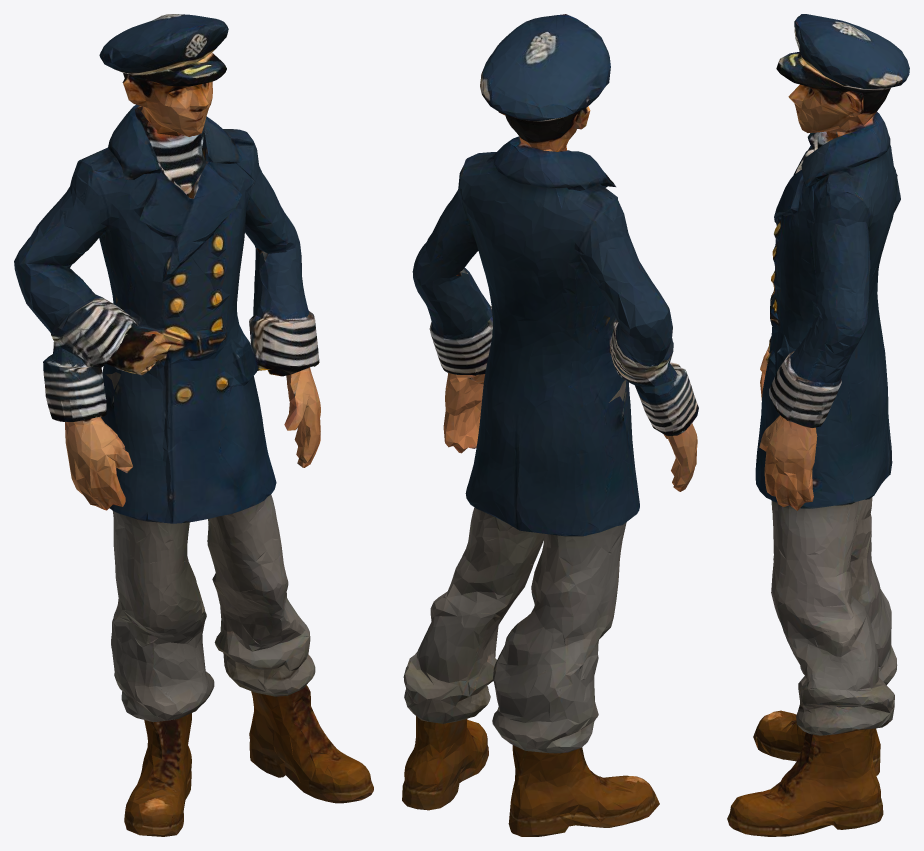
The model's file is villager3.glb.
The picture shows the model from 3 angles, left to right: view 1: azimuth 30°, elevation 25°; view 2: azimuth 150°, elevation 25°; view 3: azimuth 270°, elevation 25°; orthographic projection. The views are drawn at different scales.
Visible parts, largest first — view 1: villager3; view 2: villager3; view 3: villager3.
Part boxes in pixels (x1,y1,x2,y2): villager3: (14,14,373,836); villager3: (402,14,698,836); villager3: (727,14,909,836).
Size of the model in its own units: 0.7687 by 1.99 by 0.4403.
1 material, 1 textured.
